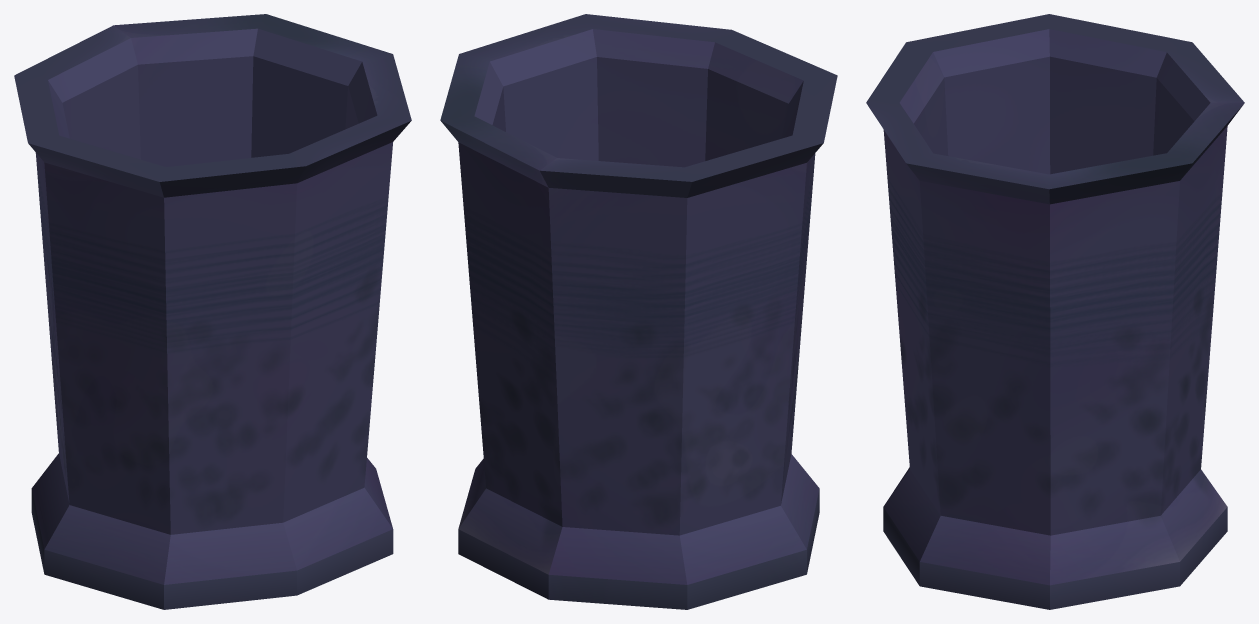
File: AlchemyStationPenHolder.fbx
3 views of the same model, side by side, from view 1: azimuth 30°, elevation 25°; view 2: azimuth 150°, elevation 25°; view 3: azimuth 270°, elevation 25° (orthographic).
Parts seen in each view (by area): view 1: pCube57; view 2: pCube57; view 3: pCube57.
Part boxes in pixels (bbox=[...]): pCube57: bbox=[14, 14, 411, 609]; pCube57: bbox=[440, 14, 837, 609]; pCube57: bbox=[866, 14, 1244, 609].
Bounding box in the file's own units: 14.17 × 16.16 × 12.95.
